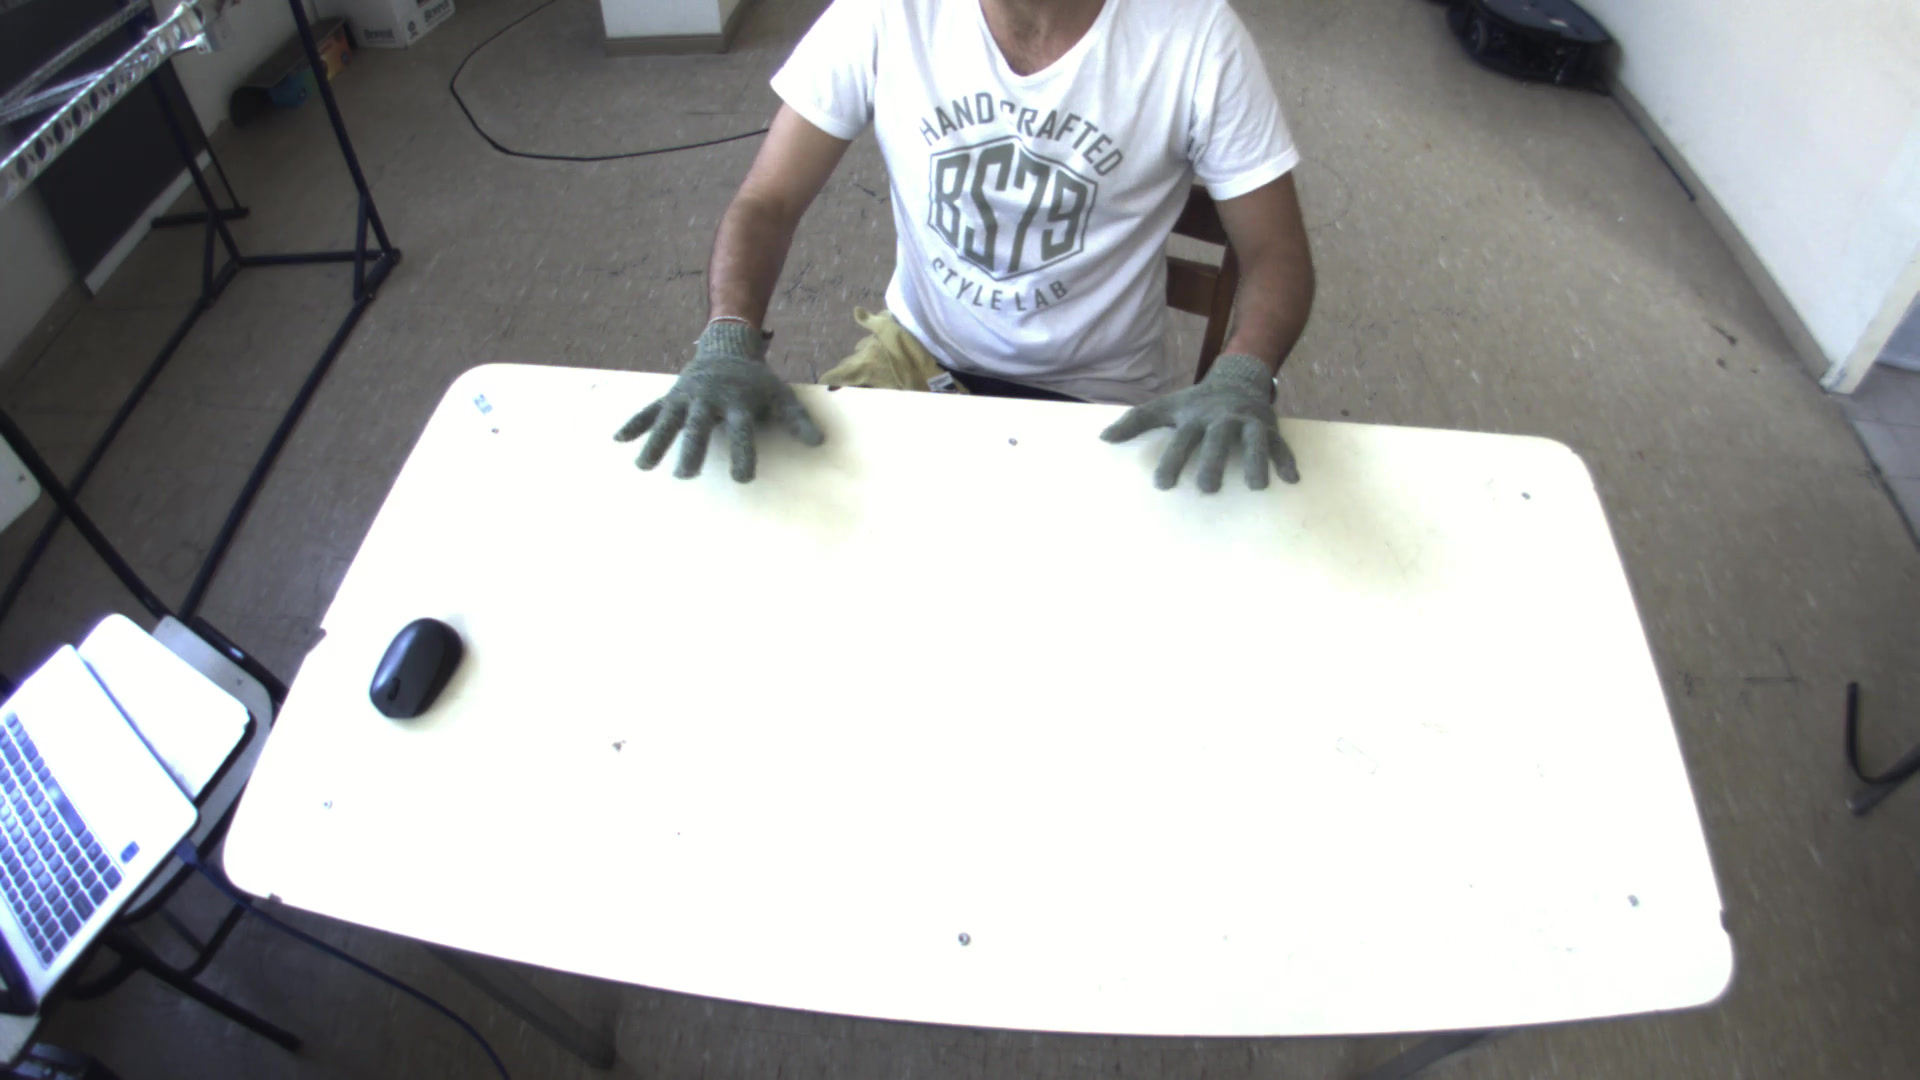hand: (599, 305, 832, 488), (1095, 335, 1311, 501)
